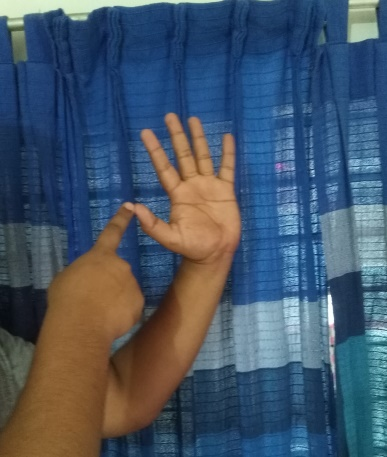a: (94, 113, 236, 325)
